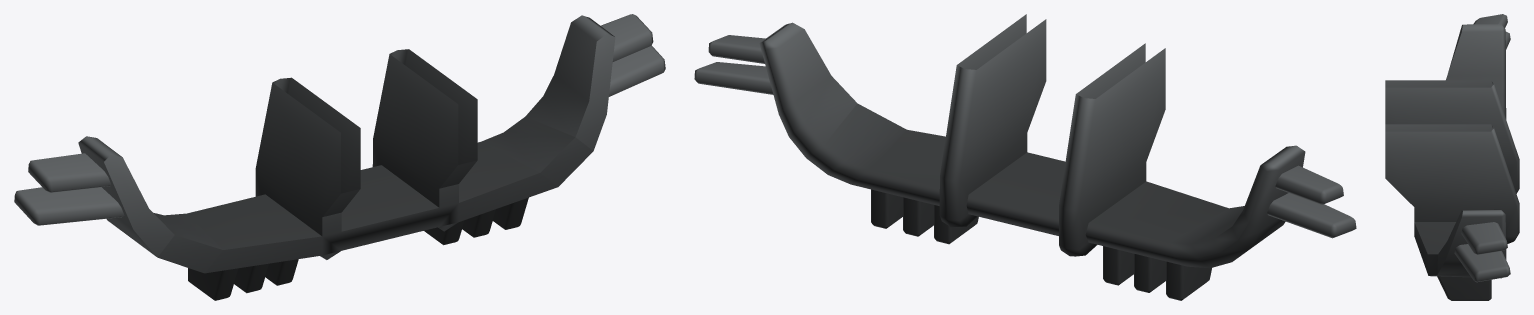
The model's file is Car_08_RearBumper_Cool.fbx.
3 renders of one model, left to right at view 1: azimuth 30°, elevation 25°; view 2: azimuth 150°, elevation 25°; view 3: azimuth 270°, elevation 25°, orthographic. The views are drawn at different scales.
Parts seen in each view (by area): view 1: Car_08_RearBumper_Cool; view 2: Car_08_RearBumper_Cool; view 3: Car_08_RearBumper_Cool.
Boxes of the visible parts, bbox=[...] form: Car_08_RearBumper_Cool: bbox=[14, 14, 665, 300]; Car_08_RearBumper_Cool: bbox=[694, 14, 1356, 300]; Car_08_RearBumper_Cool: bbox=[1385, 14, 1519, 300].
Bounding box in the file's own units: 211 × 50.51 × 57.31.
